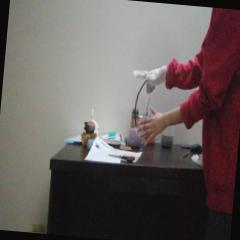gloved: (131, 64, 166, 84)
not-gloved: (134, 106, 167, 148)
